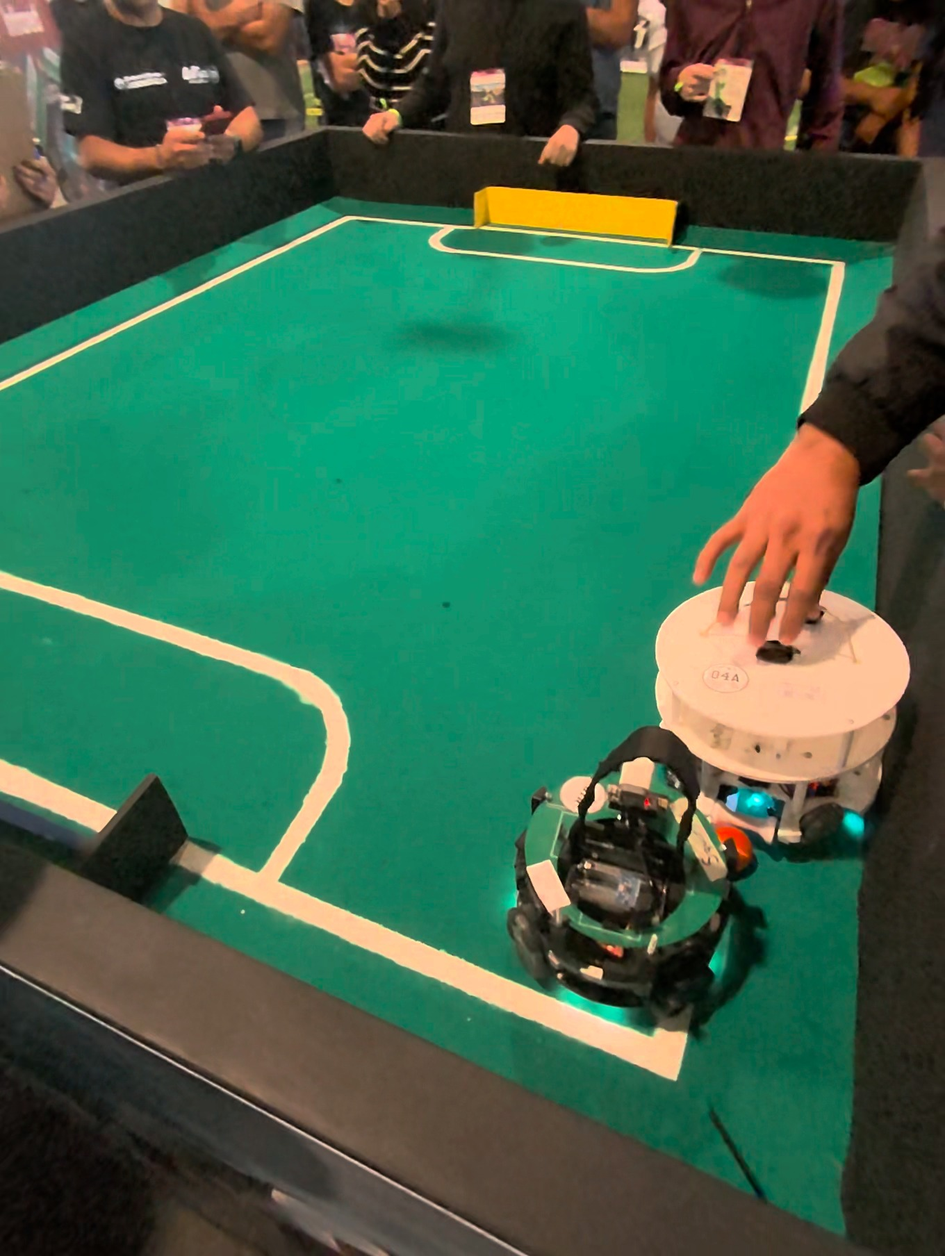Robot: (505, 728, 741, 1045), (646, 575, 903, 850)
pelota: (699, 813, 769, 871)
